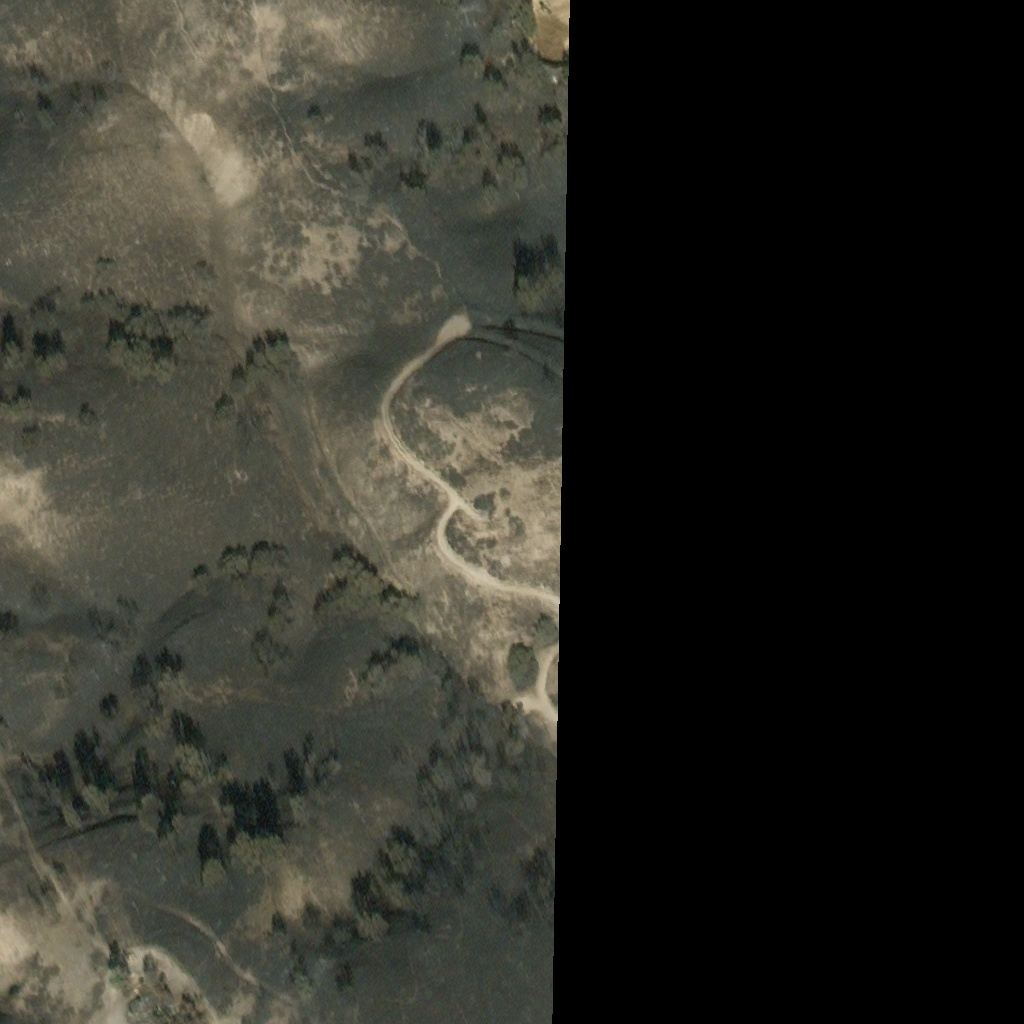4 un-classified: (125, 993, 140, 1010), (93, 954, 98, 960)
